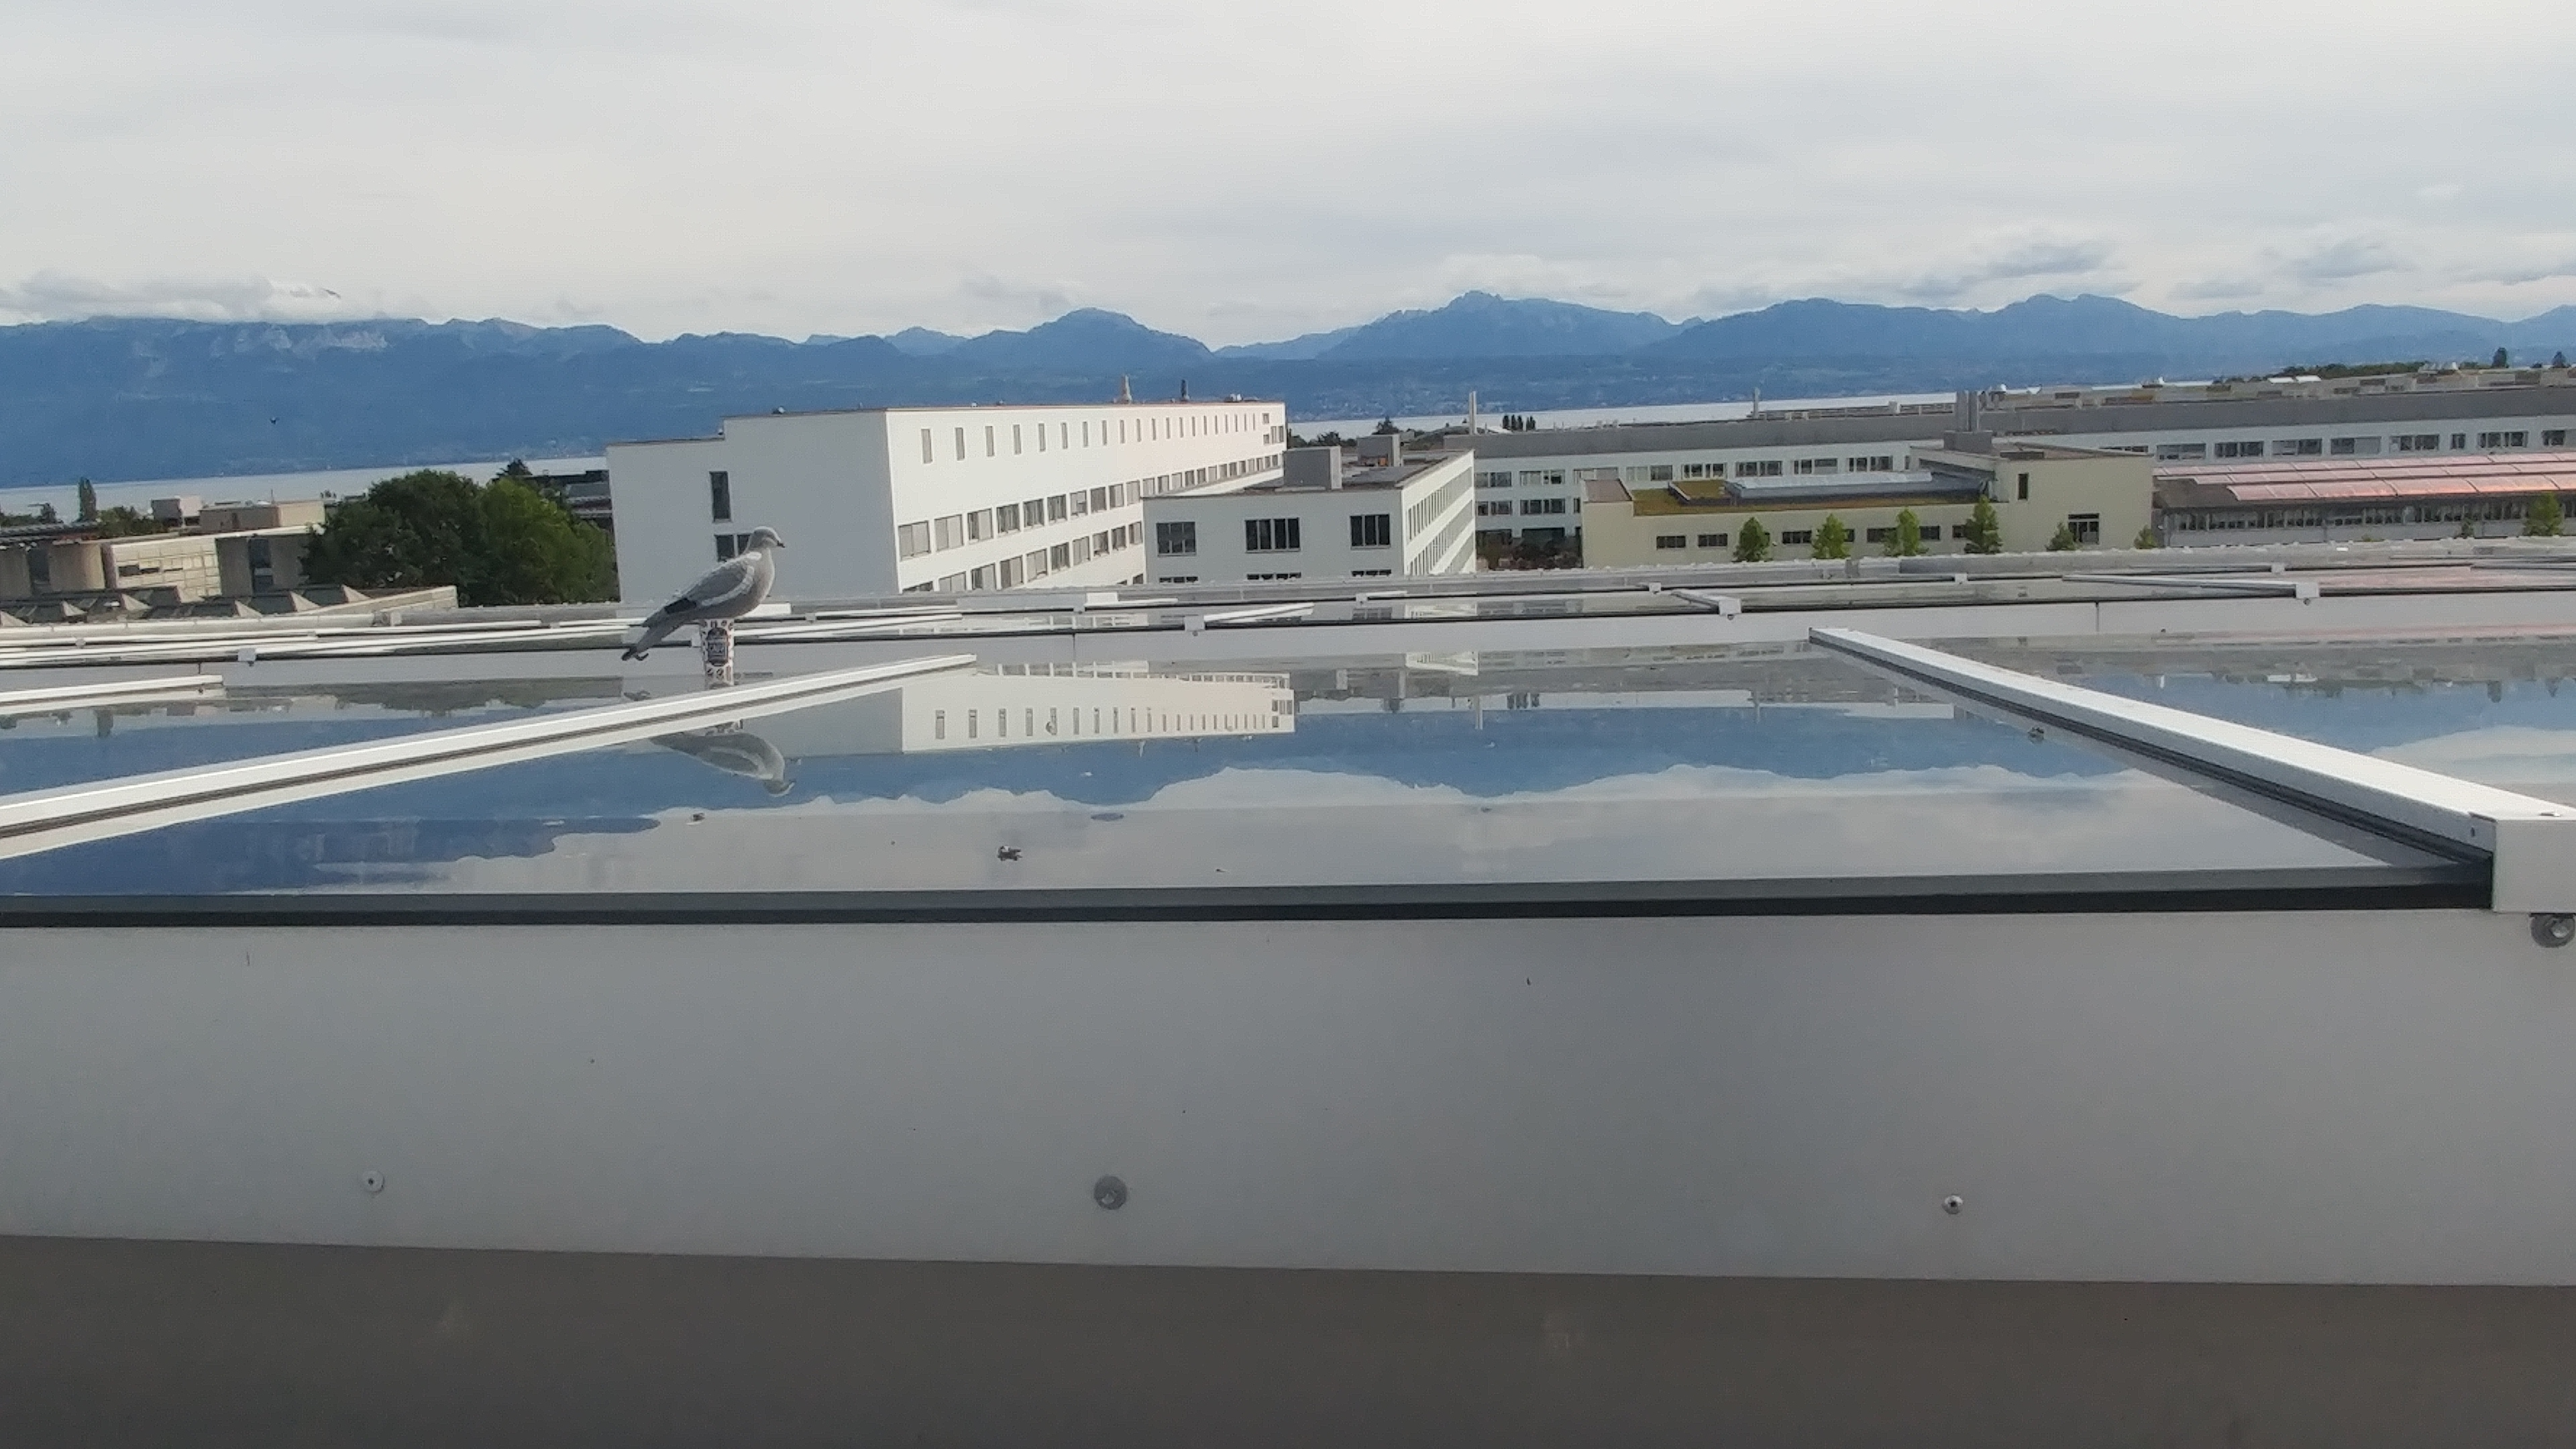Pigeon: (630, 524, 789, 633)
